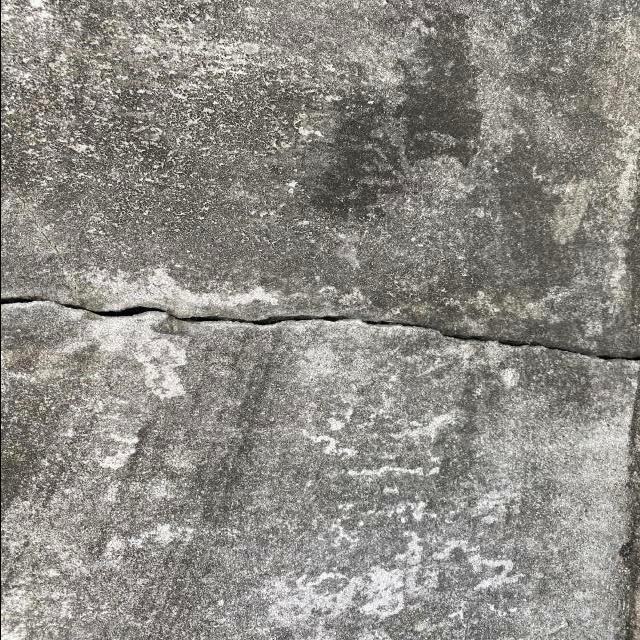SurfaceCrack: (2, 252, 639, 413)
